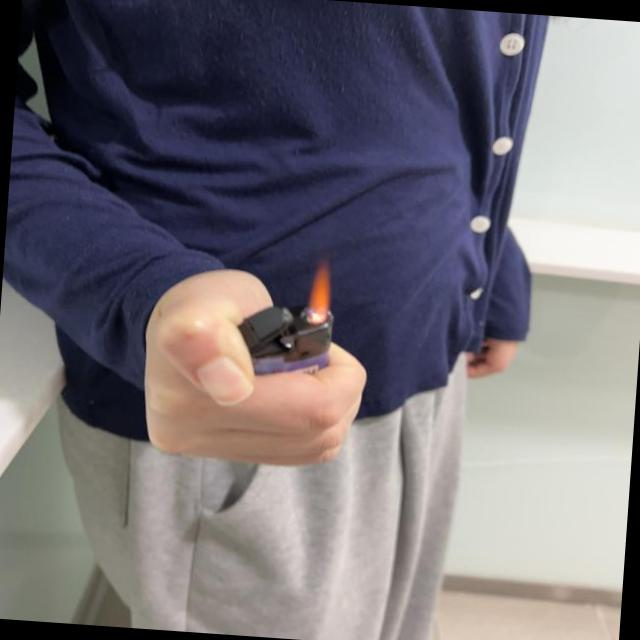Fire: (305, 256, 334, 326)
